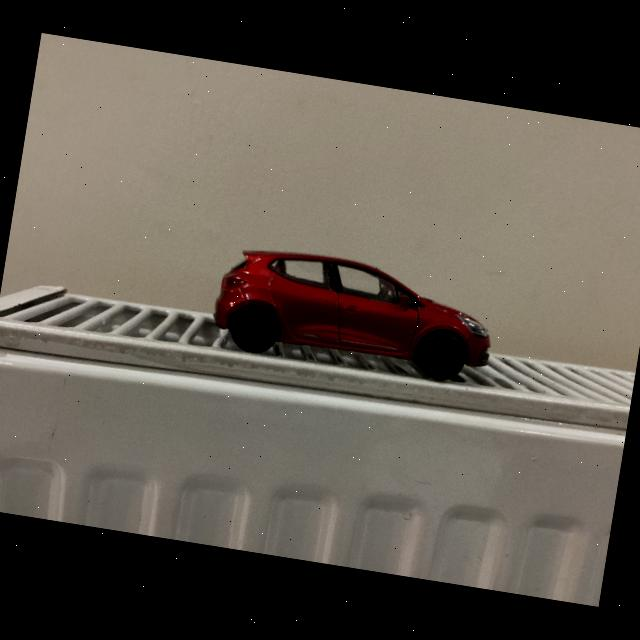Dogru_Jant: (232, 310, 273, 350), (427, 340, 461, 374)
